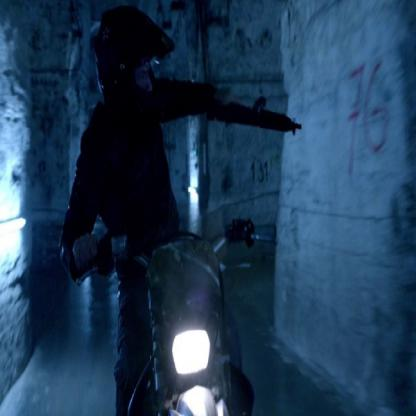Gun: (206, 86, 302, 144)
